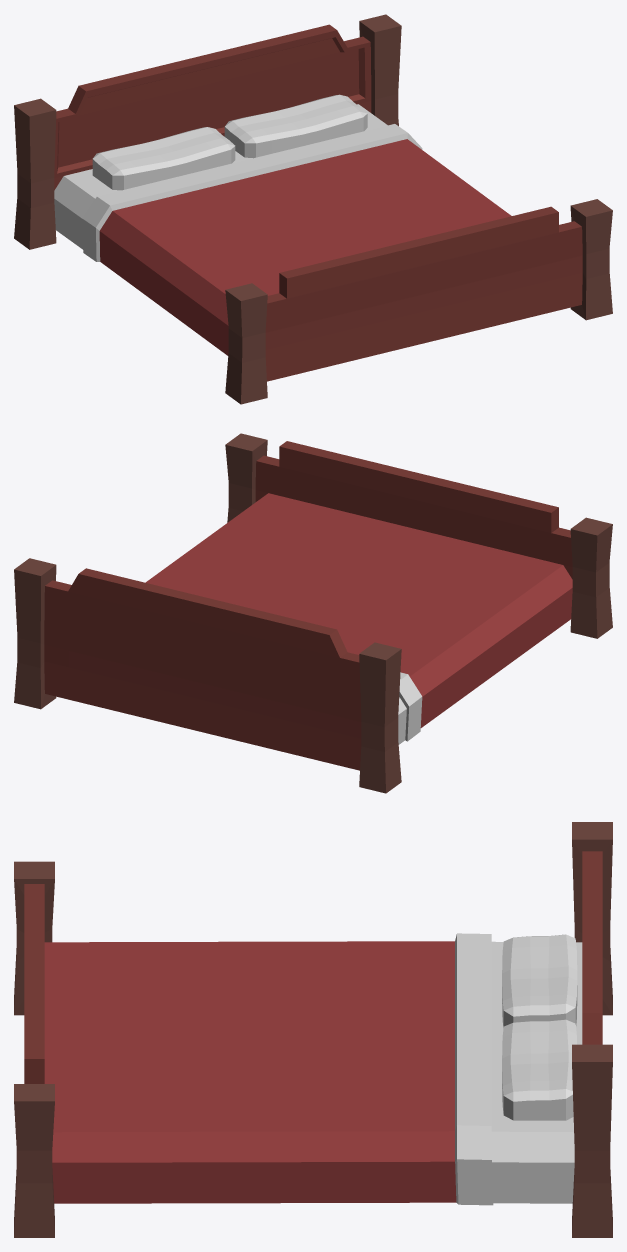
File: quaternius-bed-king.glb
3 renders of one model, top to bottom at view 1: azimuth 30°, elevation 25°; view 2: azimuth 150°, elevation 25°; view 3: azimuth 270°, elevation 25°, orthographic. The views are drawn at different scales.
Visible parts, largest first — view 1: BedKing; view 2: BedKing; view 3: BedKing.
Boxes of the visible parts, x1,y1,x2,y2 form: BedKing: (14,14,612,404); BedKing: (14,433,612,793); BedKing: (14,822,612,1237).
Bounding box in the file's own units: 1.35 × 0.4898 × 1.43.
